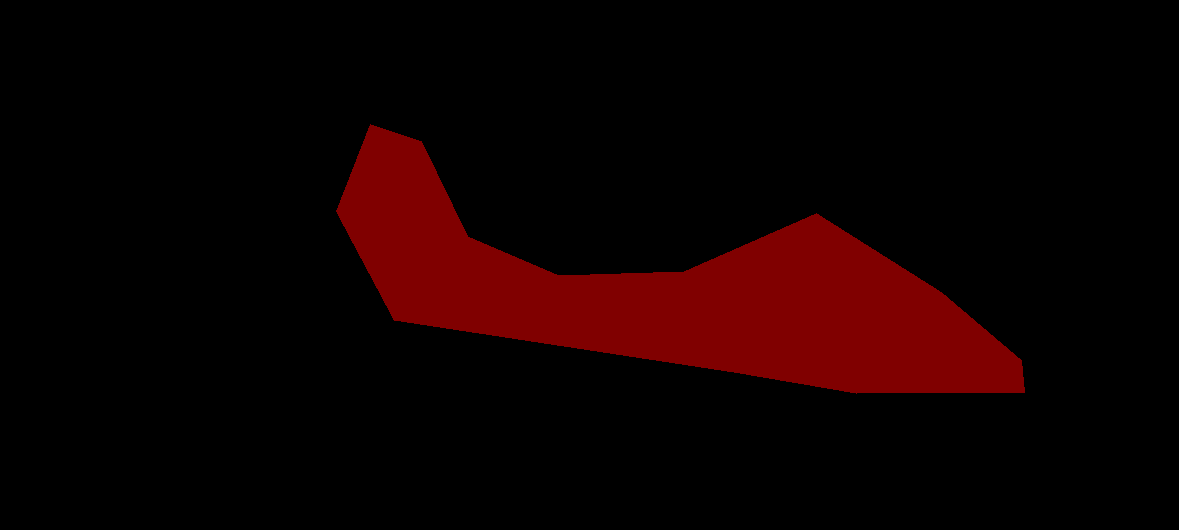fire: (336, 124, 1024, 393)
